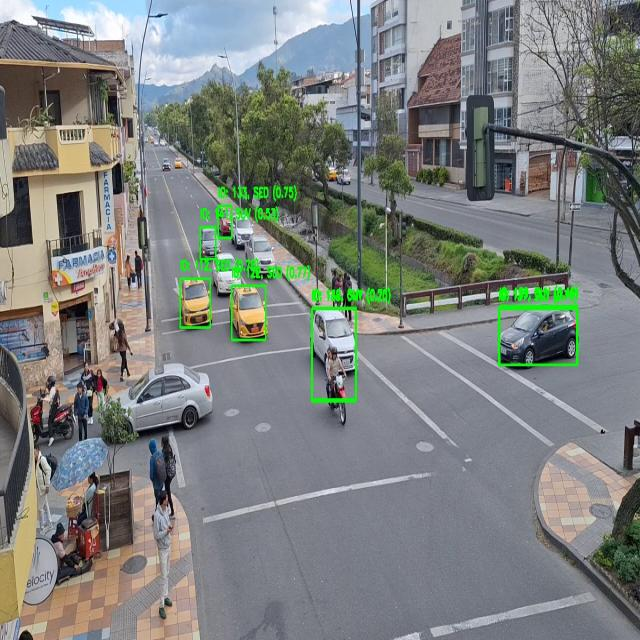CMT: (245, 236, 275, 275)
MOTORCYCLE: (32, 399, 78, 446), (328, 371, 348, 424)
SED: (116, 364, 212, 432), (498, 310, 576, 368), (312, 311, 356, 373), (231, 287, 267, 339), (180, 277, 212, 325), (212, 255, 240, 296)
SUV: (233, 218, 254, 249)
